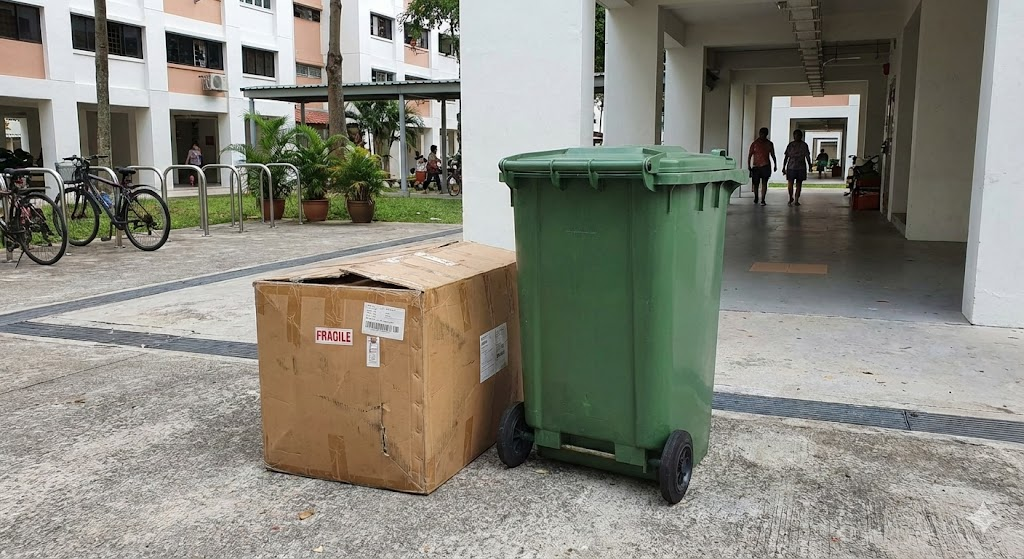bin_empty: (496, 145, 740, 503)
bulk_waste: (255, 242, 520, 493)
vehicle: (56, 155, 169, 250), (0, 168, 68, 264)
